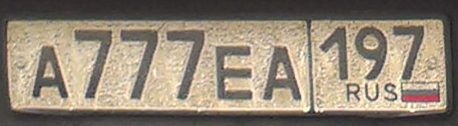character: (162, 24, 211, 110), (71, 22, 118, 108), (116, 24, 163, 104), (260, 39, 308, 103), (213, 38, 255, 108), (389, 22, 435, 81), (30, 44, 74, 103), (353, 23, 391, 87), (317, 25, 351, 83)
